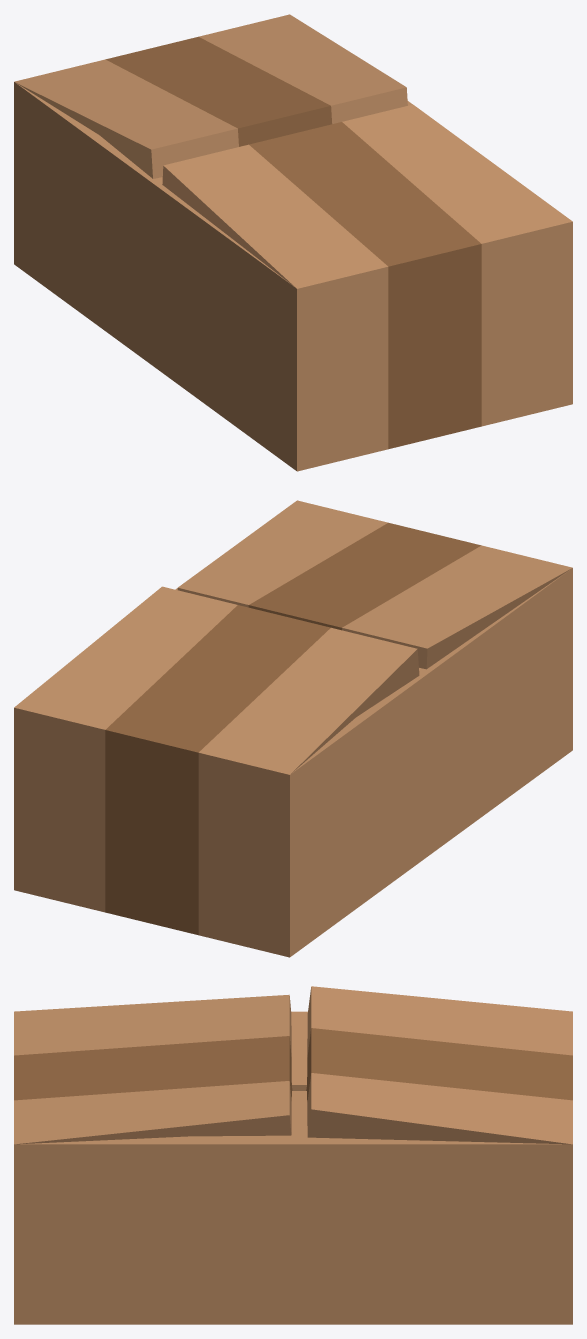
File: BoxClosed5.fbx
3 views of the same model, one above another, from view 1: azimuth 30°, elevation 25°; view 2: azimuth 150°, elevation 25°; view 3: azimuth 270°, elevation 25° (orthographic).
Visible parts, largest first — view 1: BoxClosed5; view 2: BoxClosed5; view 3: BoxClosed5.
Boxes of the visible parts, x1,y1,x2,y2 form: BoxClosed5: [14, 14, 572, 471]; BoxClosed5: [14, 500, 572, 957]; BoxClosed5: [14, 986, 572, 1324].
Size of the model in its own units: 35.51 by 25.9 by 63.12.
Materials: 1 (1 with a texture image).
